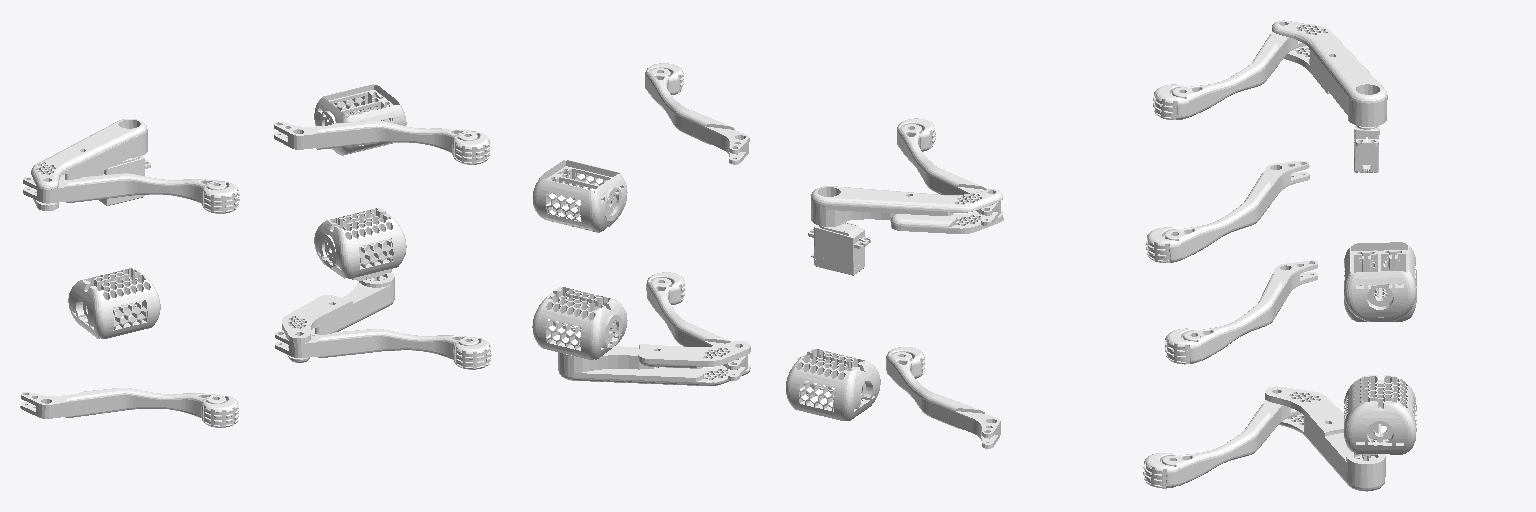
robot.urdf — Main Body URDF:
<?xml version="1.0" encoding="utf-8"?>
<!-- This URDF was automatically created by SolidWorks to URDF Exporter! Originally created by [author] ([email redacted]) 
     Commit Version: 1.6.0-4-g7f85cfe  Build Version: 1.6.7995.38578
     For more information, please see http://wiki.ros.org/sw_urdf_exporter -->
<robot
  name="Main Body URDF">
  <link
    name="base_link">
    <inertial>
      <origin
        xyz="-1.11022302462516E-16 -0.00302360042075001 -5.55111512312578E-17"
        rpy="0 0 0" />
      <mass
        value="0.315535261055246" />
      <inertia
        ixx="5.55978934043807E-05"
        ixy="-2.21301947020217E-21"
        ixz="2.86161333089283E-22"
        iyy="0.000227649084365836"
        iyz="-9.09924908316124E-21"
        izz="0.000187249617089345" />
    </inertial>
    <visual>
      <origin
        xyz="0 0 0"
        rpy="0 0 0" />
      <geometry>
        <mesh
          filename="meshes/base_link.STL" />
      </geometry>
      <material
        name="">
        <color
          rgba="1 1 1 1" />
      </material>
    </visual>
    <collision>
      <origin
        xyz="0 0 0"
        rpy="0 0 0" />
      <geometry>
        <mesh
          filename="meshes/base_link.STL" />
      </geometry>
    </collision>
  </link>
  <link
    name="fl_hip">
    <inertial>
      <origin
        xyz="0.0272971333033659 1.75159621585708E-05 0.00247430441137858"
        rpy="0 0 0" />
      <mass
        value="0.0474176719706317" />
      <inertia
        ixx="2.17411039399834E-05"
        ixy="-7.54915453759263E-09"
        ixz="-3.88620482540352E-07"
        iyy="3.26033730626776E-05"
        iyz="1.65166872304555E-07"
        izz="4.2637056945374E-05" />
    </inertial>
    <visual>
      <origin
        xyz="0 0 0"
        rpy="0 0 0" />
      <geometry>
        <mesh
          filename="meshes/fl_hip.STL" />
      </geometry>
      <material
        name="">
        <color
          rgba="1 1 1 1" />
      </material>
    </visual>
    <collision>
      <origin
        xyz="0 0 0"
        rpy="0 0 0" />
      <geometry>
        <mesh
          filename="meshes/fl_hip.STL" />
      </geometry>
    </collision>
  </link>
  <joint
    name="fl_hip"
    type="continuous">
    <origin
      xyz="0.0984 -0.0030292 -0.060681"
      rpy="0 0 0" />
    <parent
      link="base_link" />
    <child
      link="fl_hip" />
    <axis
      xyz="1 0 0" />
  </joint>
  <link
    name="fl_top">
    <inertial>
      <origin
        xyz="-0.0327093590748004 -0.0129114746104738 0.00626100034714228"
        rpy="0 0 0" />
      <mass
        value="0.139807399014711" />
      <inertia
        ixx="3.65926535985209E-05"
        ixy="-4.86382412840218E-05"
        ixz="1.9486191771268E-06"
        iyy="0.000125513458229608"
        iyz="1.26374835194812E-06"
        izz="0.000148862975841844" />
    </inertial>
    <visual>
      <origin
        xyz="0 0 0"
        rpy="0 0 0" />
      <geometry>
        <mesh
          filename="meshes/fl_top.STL" />
      </geometry>
      <material
        name="">
        <color
          rgba="1 1 1 1" />
      </material>
    </visual>
    <collision>
      <origin
        xyz="0 0 0"
        rpy="0 0 0" />
      <geometry>
        <mesh
          filename="meshes/fl_top.STL" />
      </geometry>
    </collision>
  </link>
  <joint
    name="fl_top"
    type="continuous">
    <origin
      xyz="0.0386 -0.011483 -0.032232"
      rpy="0 0 0" />
    <parent
      link="fl_hip" />
    <child
      link="fl_top" />
    <axis
      xyz="0 -0.01495 -0.99989" />
  </joint>
  <link
    name="fl_bottom">
    <inertial>
      <origin
        xyz="0.078482158861255 -0.0448672466577361 0.00348748963952544"
        rpy="0 0 0" />
      <mass
        value="0.0474313349742766" />
      <inertia
        ixx="2.61536457002355E-05"
        ixy="3.60251937346389E-05"
        ixz="-5.38425820651276E-07"
        iyy="6.08830489314348E-05"
        iyz="3.54056592344967E-07"
        izz="8.45670496666924E-05" />
    </inertial>
    <visual>
      <origin
        xyz="0 0 0"
        rpy="0 0 0" />
      <geometry>
        <mesh
          filename="meshes/fl_bottom.STL" />
      </geometry>
      <material
        name="">
        <color
          rgba="1 1 1 1" />
      </material>
    </visual>
    <collision>
      <origin
        xyz="0 0 0"
        rpy="0 0 0" />
      <geometry>
        <mesh
          filename="meshes/fl_bottom.STL" />
      </geometry>
    </collision>
  </link>
  <joint
    name="fl_bottom"
    type="continuous">
    <origin
      xyz="-0.12132 -0.072387 -0.013569"
      rpy="0 0 0" />
    <parent
      link="fl_top" />
    <child
      link="fl_bottom" />
    <axis
      xyz="0 -0.01495 -0.99989" />
  </joint>
  <link
    name="fr_hip">
    <inertial>
      <origin
        xyz="0.027297131982034 9.90275998717094E-05 -0.00247238563061042"
        rpy="0 0 0" />
      <mass
        value="0.0474176723475862" />
      <inertia
        ixx="2.17411062531901E-05"
        ixy="-1.07632885592874E-08"
        ixz="3.88545769681232E-07"
        iyy="3.26100851697042E-05"
        iyz="-3.07652923389513E-07"
        izz="4.26303515792848E-05" />
    </inertial>
    <visual>
      <origin
        xyz="0 0 0"
        rpy="0 0 0" />
      <geometry>
        <mesh
          filename="meshes/fr_hip.STL" />
      </geometry>
      <material
        name="">
        <color
          rgba="1 1 1 1" />
      </material>
    </visual>
    <collision>
      <origin
        xyz="0 0 0"
        rpy="0 0 0" />
      <geometry>
        <mesh
          filename="meshes/fr_hip.STL" />
      </geometry>
    </collision>
  </link>
  <joint
    name="fr_hip"
    type="continuous">
    <origin
      xyz="0.0984 -0.0030292 0.060681"
      rpy="0 0 0" />
    <parent
      link="base_link" />
    <child
      link="fr_hip" />
    <axis
      xyz="1 0 0" />
  </joint>
  <link
    name="fr_top">
    <inertial>
      <origin
        xyz="-0.0327864495707164 -0.0126313769769459 -0.00647693886353867"
        rpy="0 0 0" />
      <mass
        value="0.139807219355074" />
      <inertia
        ixx="3.60145763368299E-05"
        ixy="-4.80987732569624E-05"
        ixz="-2.77517694329877E-06"
        iyy="0.000126140761129269"
        iyz="-1.63921611186352E-06"
        izz="0.000148813501843454" />
    </inertial>
    <visual>
      <origin
        xyz="0 0 0"
        rpy="0 0 0" />
      <geometry>
        <mesh
          filename="meshes/fr_top.STL" />
      </geometry>
      <material
        name="">
        <color
          rgba="1 1 1 1" />
      </material>
    </visual>
    <collision>
      <origin
        xyz="0 0 0"
        rpy="0 0 0" />
      <geometry>
        <mesh
          filename="meshes/fr_top.STL" />
      </geometry>
    </collision>
  </link>
  <joint
    name="fr_top"
    type="continuous">
    <origin
      xyz="0.0381 -0.012136 0.032026"
      rpy="0 0 0" />
    <parent
      link="fr_hip" />
    <child
      link="fr_top" />
    <axis
      xyz="0 -0.032164 0.99948" />
  </joint>
  <link
    name="fr_bottom">
    <inertial>
      <origin
        xyz="0.0791469661032436 -0.0433740165808617 -0.0042133669017476"
        rpy="0 0 0" />
      <mass
        value="0.047431300905697" />
      <inertia
        ixx="2.48656407351239E-05"
        ixy="3.53612962863047E-05"
        ixz="1.13817640664229E-06"
        iyy="6.21887613940631E-05"
        iyz="-7.20454050525757E-07"
        izz="8.45489651842451E-05" />
    </inertial>
    <visual>
      <origin
        xyz="0 0 0"
        rpy="0 0 0" />
      <geometry>
        <mesh
          filename="meshes/fr_bottom.STL" />
      </geometry>
      <material
        name="">
        <color
          rgba="1 1 1 1" />
      </material>
    </visual>
    <collision>
      <origin
        xyz="0 0 0"
        rpy="0 0 0" />
      <geometry>
        <mesh
          filename="meshes/fr_bottom.STL" />
      </geometry>
    </collision>
  </link>
  <joint
    name="fr_bottom"
    type="continuous">
    <origin
      xyz="-0.121749494844511 -0.0718844345331731 0.0123443050311544"
      rpy="0 0 0" />
    <parent
      link="fr_top" />
    <child
      link="fr_bottom" />
    <axis
      xyz="0 -0.0321638727308673 0.999482608798649" />
  </joint>
  <link
    name="br_hip">
    <inertial>
      <origin
        xyz="-0.0272971344226925 -6.43744326411511E-05 -0.00247351850938268"
        rpy="0 0 0" />
      <mass
        value="0.0474176686622597" />
      <inertia
        ixx="2.17411069156438E-05"
        ixy="-5.31705130526738E-09"
        ixz="-3.88657711748625E-07"
        iyy="3.26034343522744E-05"
        iyz="1.67117958442211E-07"
        izz="4.26370068764065E-05" />
    </inertial>
    <visual>
      <origin
        xyz="0 0 0"
        rpy="0 0 0" />
      <geometry>
        <mesh
          filename="meshes/br_hip.STL" />
      </geometry>
      <material
        name="">
        <color
          rgba="1 1 1 1" />
      </material>
    </visual>
    <collision>
      <origin
        xyz="0 0 0"
        rpy="0 0 0" />
      <geometry>
        <mesh
          filename="meshes/br_hip.STL" />
      </geometry>
    </collision>
  </link>
  <joint
    name="br_hip"
    type="continuous">
    <origin
      xyz="-0.0984 -0.0030292 0.060681"
      rpy="0 0 0" />
    <parent
      link="base_link" />
    <child
      link="br_hip" />
    <axis
      xyz="-1 0 0" />
  </joint>
  <link
    name="br_top">
    <inertial>
      <origin
        xyz="-0.0331307458806611 -0.0121448427162066 -0.00584779936915039"
        rpy="0 0 0" />
      <mass
        value="0.139807219513831" />
      <inertia
        ixx="3.34135369969368E-05"
        ixy="-4.57757281094289E-05"
        ixz="-4.20400289917178E-07"
        iyy="0.000128634824886818"
        iyz="-5.05556246790766E-07"
        izz="0.000148920477468448" />
    </inertial>
    <visual>
      <origin
        xyz="0 0 0"
        rpy="0 0 0" />
      <geometry>
        <mesh
          filename="meshes/br_top.STL" />
      </geometry>
      <material
        name="">
        <color
          rgba="1 1 1 1" />
      </material>
    </visual>
    <collision>
      <origin
        xyz="0 0 0"
        rpy="0 0 0" />
      <geometry>
        <mesh
          filename="meshes/br_top.STL" />
      </geometry>
    </collision>
  </link>
  <joint
    name="br_top"
    type="continuous">
    <origin
      xyz="-0.0186000000001146 -0.0104099959720499 0.0325943550920316"
      rpy="0 0 0" />
    <parent
      link="br_hip" />
    <child
      link="br_top" />
    <axis
      xyz="0 0.0181540508072637 0.999835201640394" />
  </joint>
  <link
    name="br_bottom">
    <inertial>
      <origin
        xyz="0.0791720299116837 -0.043485483448343 -0.00202700123300074"
        rpy="0 0 0" />
      <mass
        value="0.0474313351974432" />
      <inertia
        ixx="2.48249541491992E-05"
        ixy="3.53523648270132E-05"
        ixz="-6.41679591763938E-07"
        iyy="6.22138157655498E-05"
        iyz="4.05829964915507E-07"
        izz="8.45649759822488E-05" />
    </inertial>
    <visual>
      <origin
        xyz="0 0 0"
        rpy="0 0 0" />
      <geometry>
        <mesh
          filename="meshes/br_bottom.STL" />
      </geometry>
      <material
        name="">
        <color
          rgba="1 1 1 1" />
      </material>
    </visual>
    <collision>
      <origin
        xyz="0 0 0"
        rpy="0 0 0" />
      <geometry>
        <mesh
          filename="meshes/br_bottom.STL" />
      </geometry>
    </collision>
  </link>
  <joint
    name="br_bottom"
    type="continuous">
    <origin
      xyz="-0.12368 -0.067775 0.015883"
      rpy="0 0 0" />
    <parent
      link="br_top" />
    <child
      link="br_bottom" />
    <axis
      xyz="0 0.018154 0.99984" />
  </joint>
  <link
    name="bl_hip">
    <inertial>
      <origin
        xyz="-0.0272971324067885 -3.03826091760384E-05 0.00247418544860611"
        rpy="0 0 0" />
      <mass
        value="0.0474176737292142" />
      <inertia
        ixx="2.17411030263018E-05"
        ixy="-9.5701323711005E-09"
        ixz="3.88576084639885E-07"
        iyy="3.26053625381511E-05"
        iyz="-2.17344053344976E-07"
        izz="4.2635063560594E-05" />
    </inertial>
    <visual>
      <origin
        xyz="0 0 0"
        rpy="0 0 0" />
      <geometry>
        <mesh
          filename="meshes/bl_hip.STL" />
      </geometry>
      <material
        name="">
        <color
          rgba="1 1 1 1" />
      </material>
    </visual>
    <collision>
      <origin
        xyz="0 0 0"
        rpy="0 0 0" />
      <geometry>
        <mesh
          filename="meshes/bl_hip.STL" />
      </geometry>
    </collision>
  </link>
  <joint
    name="bl_hip"
    type="continuous">
    <origin
      xyz="-0.0984 -0.00302922105364486 -0.0606811932633948"
      rpy="0 0 0" />
    <parent
      link="base_link" />
    <child
      link="bl_hip" />
    <axis
      xyz="-1 0 0" />
  </joint>
  <link
    name="bl_top">
    <inertial>
      <origin
        xyz="-0.0332919917737501 -0.011761405740684 0.00583145711228239"
        rpy="0 0 0" />
      <mass
        value="0.139807399049" />
      <inertia
        ixx="3.21840569388915E-05"
        ixy="-4.4543175426684E-05"
        ixz="3.65621400096592E-07"
        iyy="0.000129862688192871"
        iyz="4.73135842246664E-07"
        izz="0.000148922342306775" />
    </inertial>
    <visual>
      <origin
        xyz="0 0 0"
        rpy="0 0 0" />
      <geometry>
        <mesh
          filename="meshes/bl_top.STL" />
      </geometry>
      <material
        name="">
        <color
          rgba="1 1 1 1" />
      </material>
    </visual>
    <collision>
      <origin
        xyz="0 0 0"
        rpy="0 0 0" />
      <geometry>
        <mesh
          filename="meshes/bl_top.STL" />
      </geometry>
    </collision>
  </link>
  <joint
    name="bl_top"
    type="continuous">
    <origin
      xyz="-0.0181000000001183 -0.0103448839199625 -0.0326150789771615"
      rpy="0 0 0" />
    <parent
      link="bl_hip" />
    <child
      link="bl_top" />
    <axis
      xyz="0 0.0201506967677564 -0.999796954096067" />
  </joint>
  <link
    name="bl_bottom">
    <inertial>
      <origin
        xyz="0.0817269974185858 -0.0387448949191614 0.00203600565191636"
        rpy="0 0 0" />
      <mass
        value="0.0474313022831092" />
      <inertia
        ixx="2.07936948016118E-05"
        ixy="3.29061979419238E-05"
        ixz="6.63457157491476E-07"
        iyy="6.62449710559728E-05"
        iyz="-3.69511557204602E-07"
        izz="8.45647068879262E-05" />
    </inertial>
    <visual>
      <origin
        xyz="0 0 0"
        rpy="0 0 0" />
      <geometry>
        <mesh
          filename="meshes/bl_bottom.STL" />
      </geometry>
      <material
        name="">
        <color
          rgba="1 1 1 1" />
      </material>
    </visual>
    <collision>
      <origin
        xyz="0 0 0"
        rpy="0 0 0" />
      <geometry>
        <mesh
          filename="meshes/bl_bottom.STL" />
      </geometry>
    </collision>
  </link>
  <joint
    name="bl_bottom"
    type="continuous">
    <origin
      xyz="-0.124595939429202 -0.0660533751871663 -0.0159842670738399"
      rpy="0 0 0" />
    <parent
      link="bl_top" />
    <child
      link="bl_bottom" />
    <axis
      xyz="0 0.0201506967677544 -0.999796954096068" />
  </joint>
</robot>

--- Render facts (derived) ---
3 views of the same robot in one strip: view 1: azimuth 30°, elevation 25°; view 2: azimuth 150°, elevation 25°; view 3: azimuth 270°, elevation 25° (orthographic).
Robot: Main Body URDF — 13 links, 12 joints (12 continuous); root link base_link; default pose: every joint at zero.
Visible links, largest first — view 1: br_top, fr_bottom, bl_bottom, bl_hip, fl_hip, br_bottom, fl_bottom, fl_top, fr_hip; view 2: br_top, fl_top, fl_hip, bl_hip, fr_hip, bl_bottom, fr_bottom, br_bottom, fl_bottom; view 3: br_top, fr_hip, fl_hip, fl_top, fr_bottom, bl_bottom, fl_bottom, br_bottom.
Link boxes in pixels (x1=…): br_top: x1=31, y1=119, x2=150, y2=210; fr_bottom: x1=274, y1=121, x2=489, y2=164; bl_bottom: x1=20, y1=388, x2=238, y2=427; bl_hip: x1=68, y1=268, x2=160, y2=338; fl_hip: x1=314, y1=208, x2=406, y2=278; br_bottom: x1=23, y1=173, x2=239, y2=213; fl_bottom: x1=275, y1=329, x2=491, y2=369; fl_top: x1=282, y1=240, x2=394, y2=362; fr_hip: x1=314, y1=84, x2=406, y2=155; br_top: x1=808, y1=186, x2=1003, y2=275; fl_top: x1=558, y1=323, x2=750, y2=385; fl_hip: x1=532, y1=287, x2=627, y2=359; bl_hip: x1=786, y1=349, x2=880, y2=420; fr_hip: x1=533, y1=160, x2=627, y2=232; bl_bottom: x1=886, y1=347, x2=1000, y2=448; fr_bottom: x1=645, y1=63, x2=749, y2=164; br_bottom: x1=897, y1=118, x2=1000, y2=225; fl_bottom: x1=646, y1=272, x2=747, y2=380; br_top: x1=1272, y1=20, x2=1387, y2=172; fr_hip: x1=1344, y1=242, x2=1415, y2=321; fl_hip: x1=1344, y1=375, x2=1416, y2=454; fl_top: x1=1265, y1=386, x2=1385, y2=491; fr_bottom: x1=1146, y1=161, x2=1309, y2=262; bl_bottom: x1=1165, y1=260, x2=1317, y2=364; fl_bottom: x1=1143, y1=400, x2=1301, y2=488; br_bottom: x1=1153, y1=24, x2=1314, y2=119.
Size in the robot's own frame: 0.4151 by 0.2212 by 0.2371 metres.
Meshes: 13 distinct files referenced, 9 mesh visuals loaded (9 binary STL); not drawn: 4 (file found but could not be loaded).